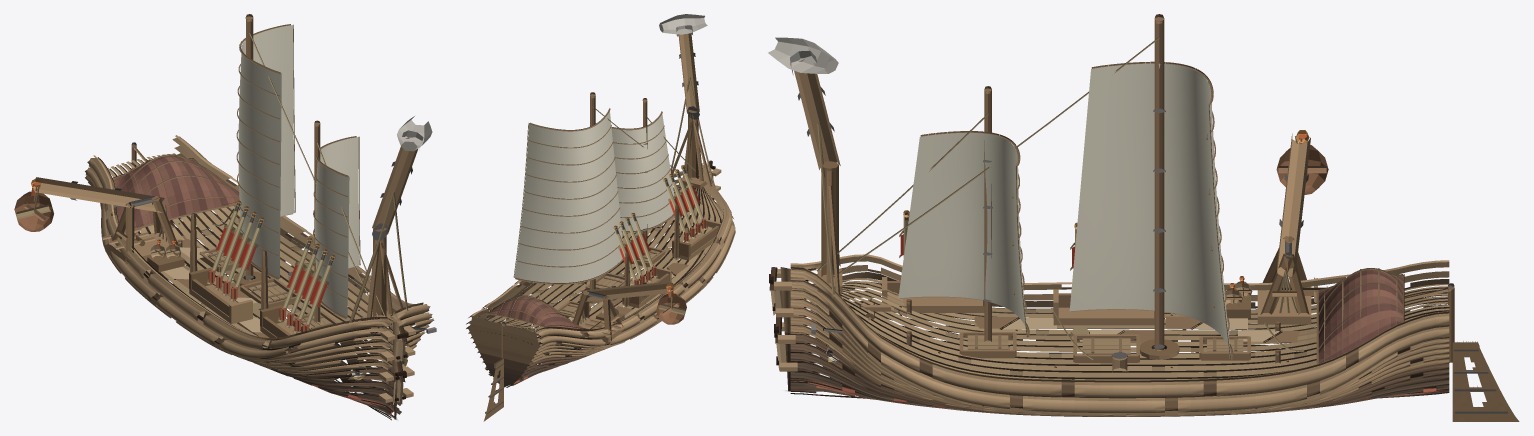
Rendered from song_quanzhou.glb.
3 views of the same model, side by side, from view 1: azimuth 30°, elevation 25°; view 2: azimuth 150°, elevation 25°; view 3: azimuth 270°, elevation 25° (orthographic). The views are drawn at different scales.
Visible parts, largest first — view 1: Fittings, Hull, Sails, Deck; view 2: Sails, Fittings, Hull, Deck; view 3: Sails, Fittings, Hull, Deck.
Boxes of the visible parts, <box> form: Fittings: <box>14,14,436,418</box>; Hull: <box>85,136,434,420</box>; Sails: <box>238,25,359,317</box>; Deck: <box>107,153,392,353</box>; Sails: <box>514,111,674,282</box>; Fittings: <box>472,14,727,421</box>; Hull: <box>466,164,735,387</box>; Deck: <box>480,185,723,344</box>; Sails: <box>898,63,1230,355</box>; Fittings: <box>768,14,1519,421</box>; Hull: <box>780,256,1449,416</box>; Deck: <box>792,278,1449,380</box>.
Bounding box in the file's own units: 5.72 × 6.55 × 11.01.
